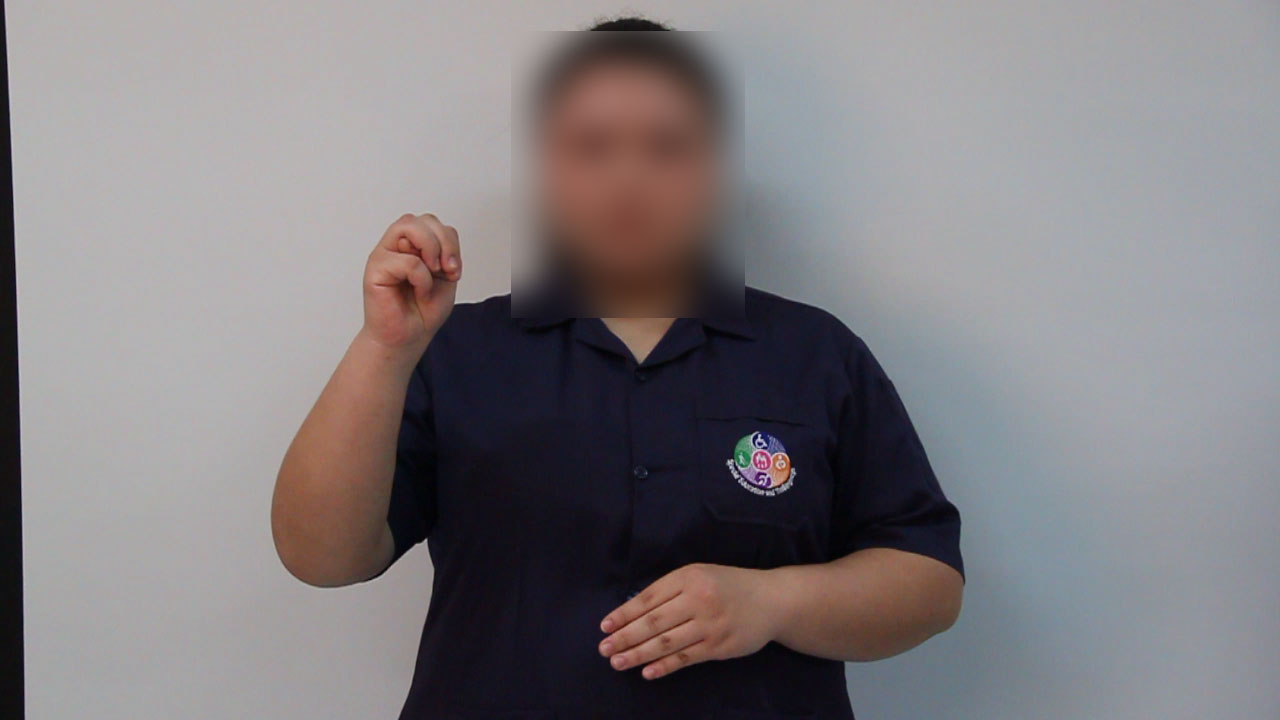mor: (355, 197, 468, 358)
